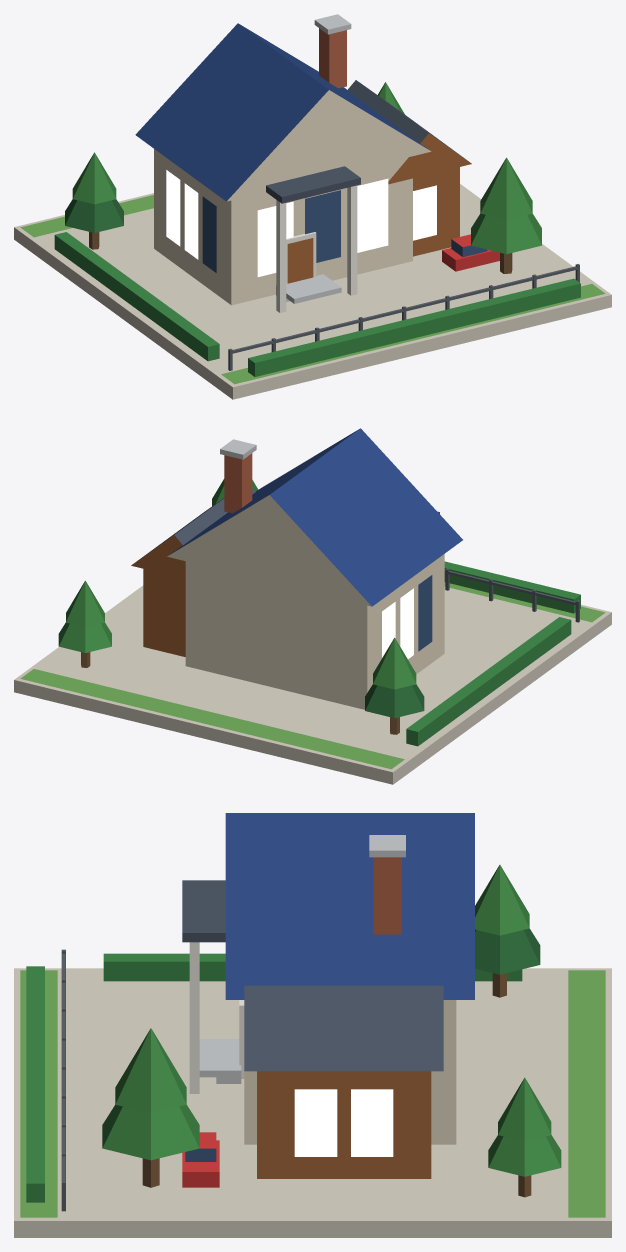
The picture shows the model from 3 angles, top to bottom: view 1: azimuth 30°, elevation 25°; view 2: azimuth 150°, elevation 25°; view 3: azimuth 270°, elevation 25°; orthographic projection. The views are drawn at different scales.
Visible parts, largest first — view 1: b01; view 2: b01; view 3: b01.
Boxes of the visible parts, <box> form: b01: <box>14,14,611,399</box>; b01: <box>14,428,611,784</box>; b01: <box>14,813,611,1237</box>.
Size of the model in its own units: 0.96 by 0.532 by 0.96.
